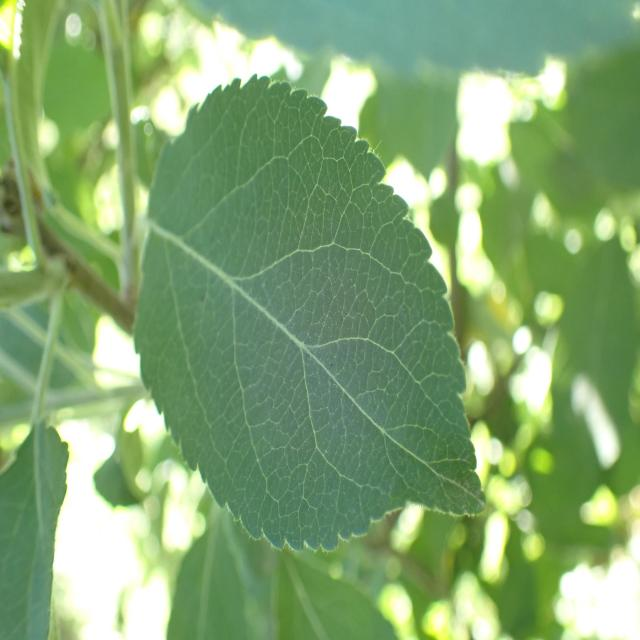healthy: (136, 72, 484, 556), (0, 419, 70, 640)
